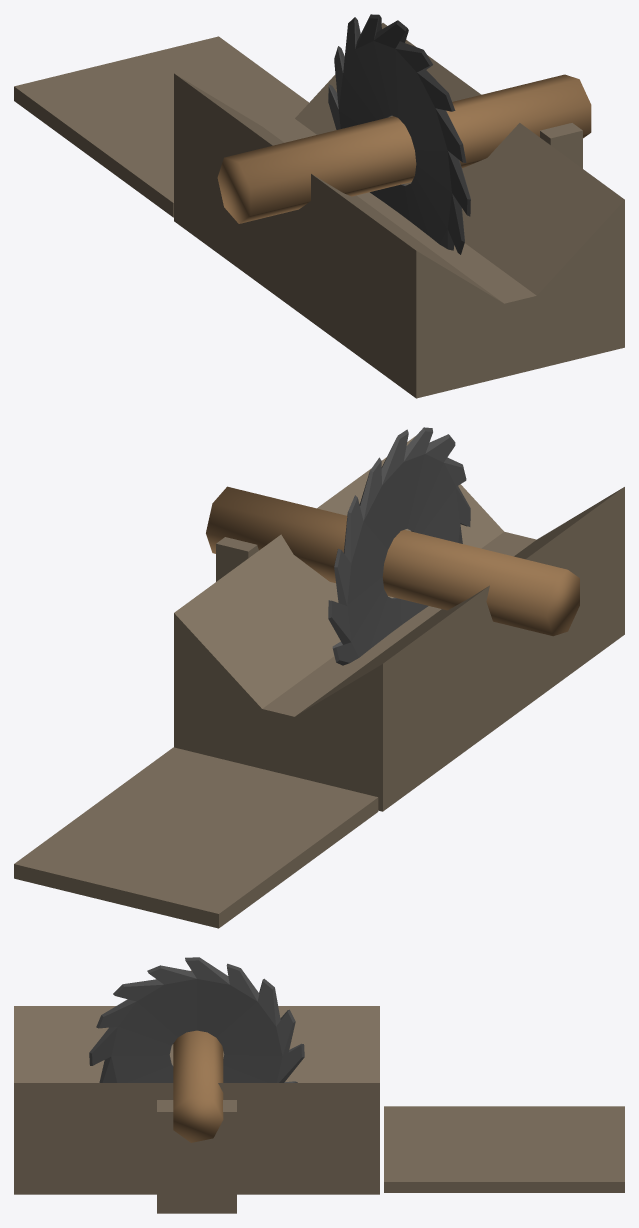
The model's file is saw.fbx.
The picture shows the model from 3 angles, top to bottom: view 1: azimuth 30°, elevation 25°; view 2: azimuth 150°, elevation 25°; view 3: azimuth 270°, elevation 25°; orthographic projection. The views are drawn at different scales.
Visible parts, largest first — view 1: Platform, Val, Saw; view 2: Platform, Val, Saw; view 3: Platform, Saw, Val.
Boxes of the visible parts, x1,y1,x2,y2 form: Platform: [14, 23, 624, 398]; Val: [217, 74, 591, 223]; Saw: [328, 14, 470, 254]; Platform: [14, 436, 624, 928]; Val: [206, 486, 579, 636]; Saw: [328, 427, 470, 665]; Platform: [14, 1006, 624, 1213]; Saw: [89, 957, 304, 1082]; Val: [173, 970, 223, 1142].
Bounding box in the file's own units: 972 × 718 × 1997.
